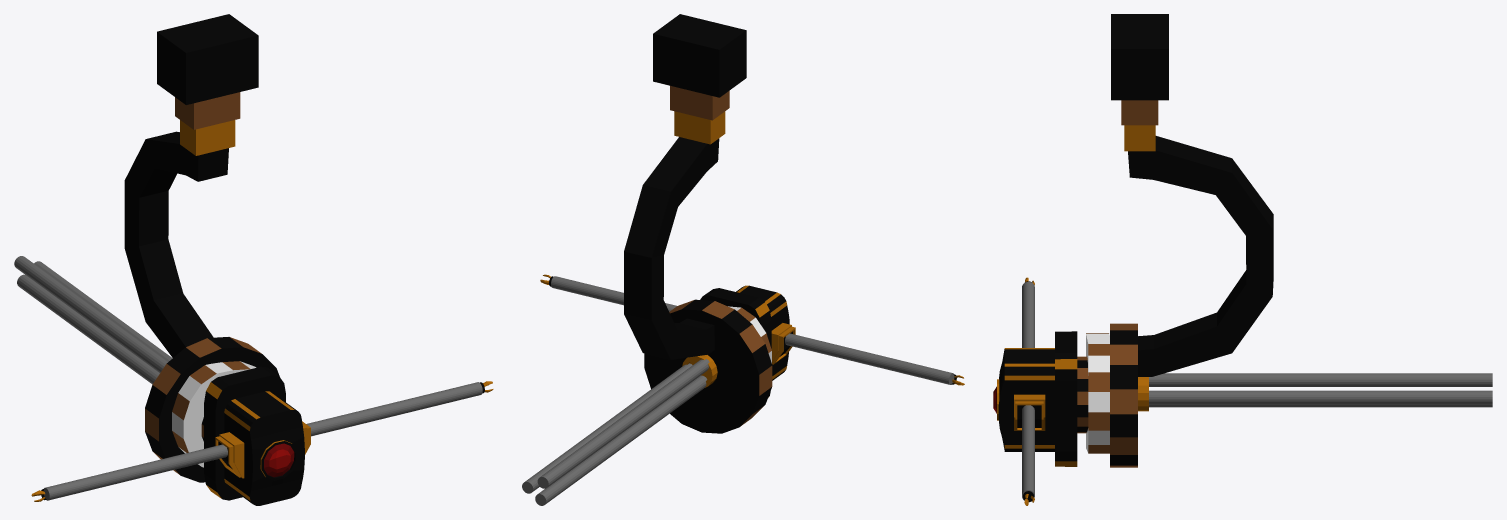
File: EVA.fbx
3 renders of one model, left to right at view 1: azimuth 30°, elevation 25°; view 2: azimuth 150°, elevation 25°; view 3: azimuth 270°, elevation 25°, orthographic. The views are drawn at different scales.
Parts seen in each view (by area): view 1: Cube.002, Cube.003, Cylinder.008, Cube.004, Cylinder.009, Cylinder.004, Cylinder.006, Cylinder.003, Cylinder.007, Cylinder.005; view 2: Cube.002, Cylinder.008, Cylinder.006, Cylinder.007, Cylinder.004, Cube.003, Cylinder.005, Cube.004, Cylinder.003; view 3: Cube.002, Cube.003, Cylinder.005, Cylinder.006, Cylinder.008, Cube.004, Cylinder.009, Cylinder.007, Cylinder.003, Cylinder.010, Cylinder.004.
Part boxes in pixels (left/top/right/bottom): Cube.002: left=124, top=14, right=258, bottom=357; Cube.003: left=215, top=391, right=310, bottom=505; Cylinder.008: left=145, top=337, right=279, bottom=482; Cube.004: left=204, top=366, right=285, bottom=500; Cylinder.009: left=172, top=361, right=256, bottom=467; Cylinder.004: left=31, top=444, right=227, bottom=501; Cylinder.006: left=14, top=256, right=167, bottom=372; Cylinder.003: left=306, top=381, right=493, bottom=436; Cylinder.007: left=17, top=274, right=159, bottom=384; Cylinder.005: left=34, top=261, right=172, bottom=361; Cube.002: left=624, top=14, right=746, bottom=359; Cylinder.008: left=644, top=299, right=772, bottom=433; Cylinder.006: left=537, top=359, right=709, bottom=488; Cylinder.007: left=535, top=375, right=707, bottom=505; Cylinder.004: left=785, top=333, right=964, bottom=385; Cube.003: left=736, top=285, right=795, bottom=380; Cylinder.005: left=522, top=363, right=692, bottom=493; Cube.004: left=700, top=288, right=771, bottom=397; Cylinder.003: left=540, top=274, right=676, bottom=311; Cube.002: left=1111, top=14, right=1273, bottom=376; Cube.003: left=993, top=348, right=1054, bottom=451; Cylinder.005: left=1149, top=390, right=1492, bottom=404; Cylinder.006: left=1149, top=373, right=1492, bottom=386; Cylinder.008: left=1110, top=323, right=1137, bottom=467; Cube.004: left=1055, top=331, right=1077, bottom=466; Cylinder.009: left=1086, top=333, right=1109, bottom=453; Cylinder.007: left=1149, top=404, right=1492, bottom=407; Cylinder.003: left=1022, top=405, right=1034, bottom=505; Cylinder.010: left=1077, top=356, right=1088, bottom=433; Cylinder.004: left=1022, top=277, right=1034, bottom=347.
Size of the model in its own units: 13.49 by 12.26 by 12.9.
